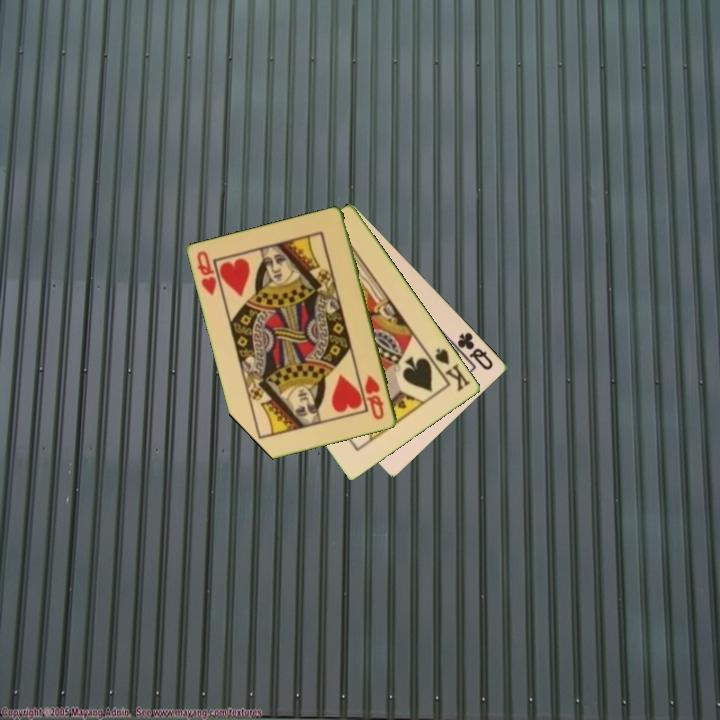Ks: (426, 345, 474, 394)
Qc: (449, 329, 496, 373)
Qh: (361, 372, 387, 423), (194, 247, 220, 298)
